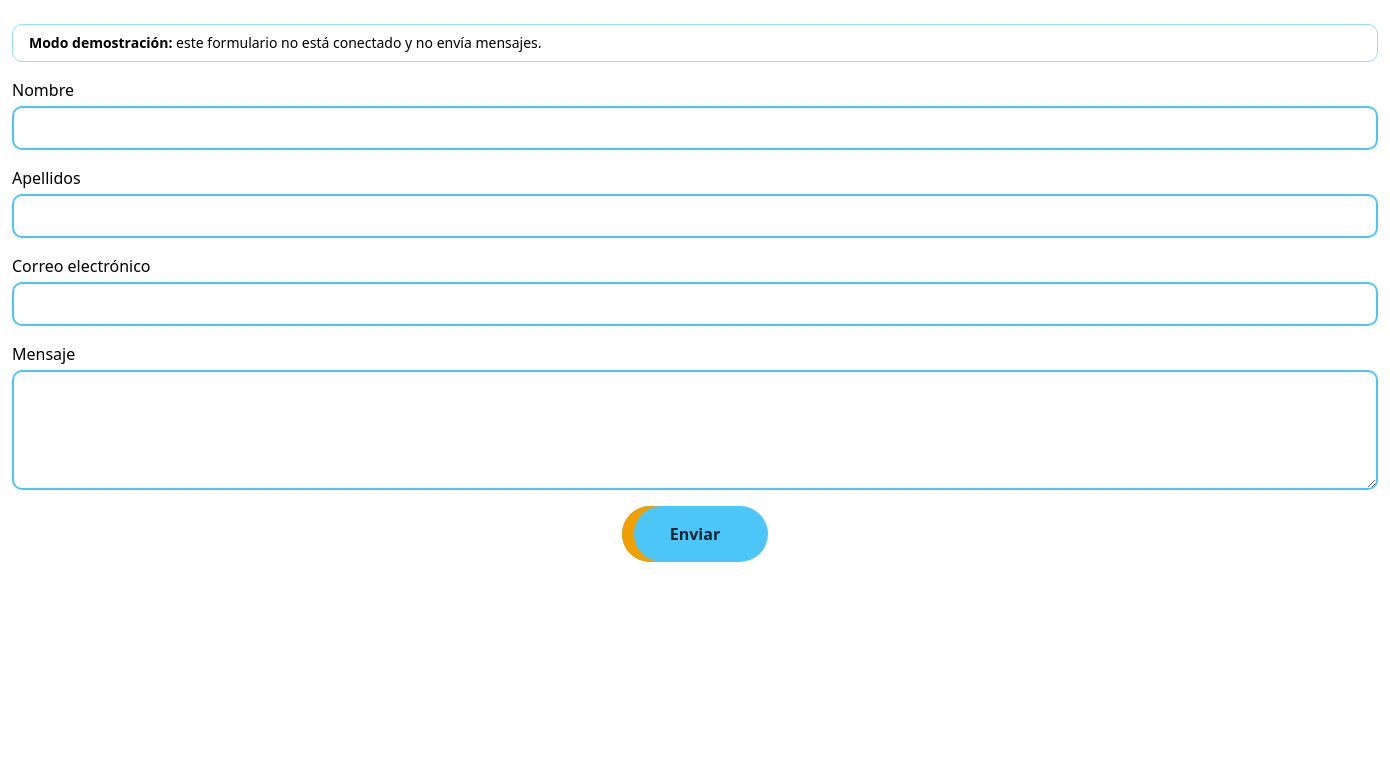
Test case: ContactForm without a Formspree ID (demo mode) › says it is a demo and sends nothing
Expected: the text "este formulario no está conectado" is shown, [172,33,542,52]
Type "Ana" into the field labelled "Nombre" at (695, 128), box [12,106,1378,150]
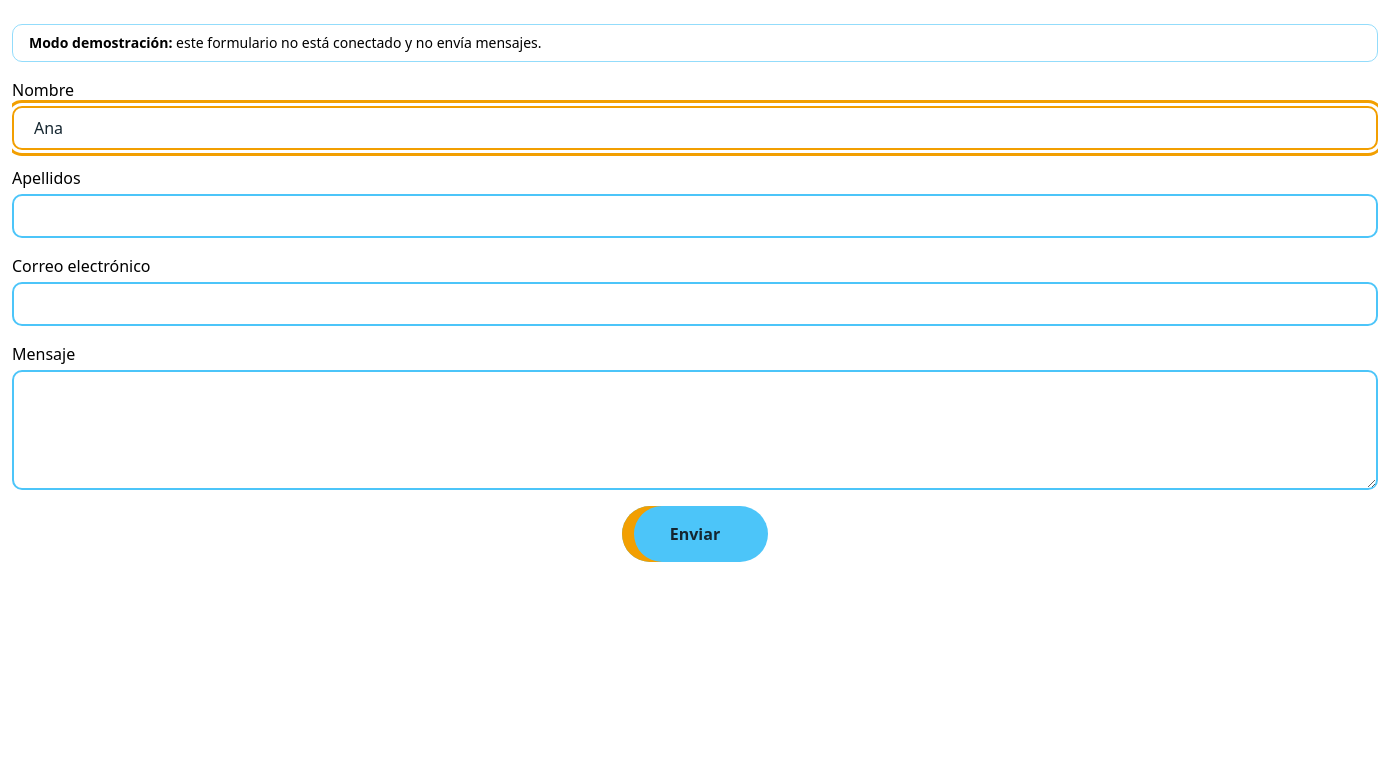
Type "Mora Solís" into the field labelled "Apellidos" at (695, 216), box [12,194,1378,238]
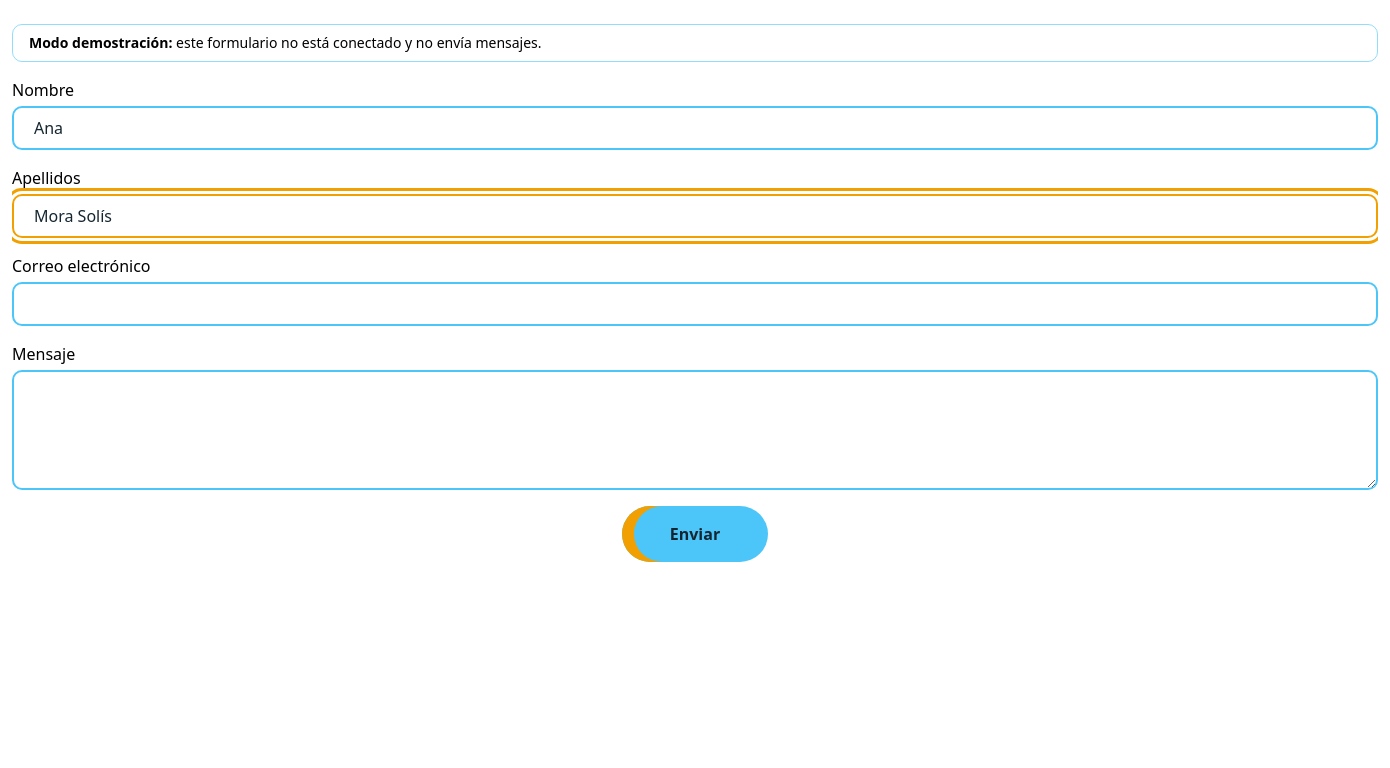
Type "ana@example.com" into the field labelled "Correo electrónico" at (695, 304), box [12,282,1378,326]
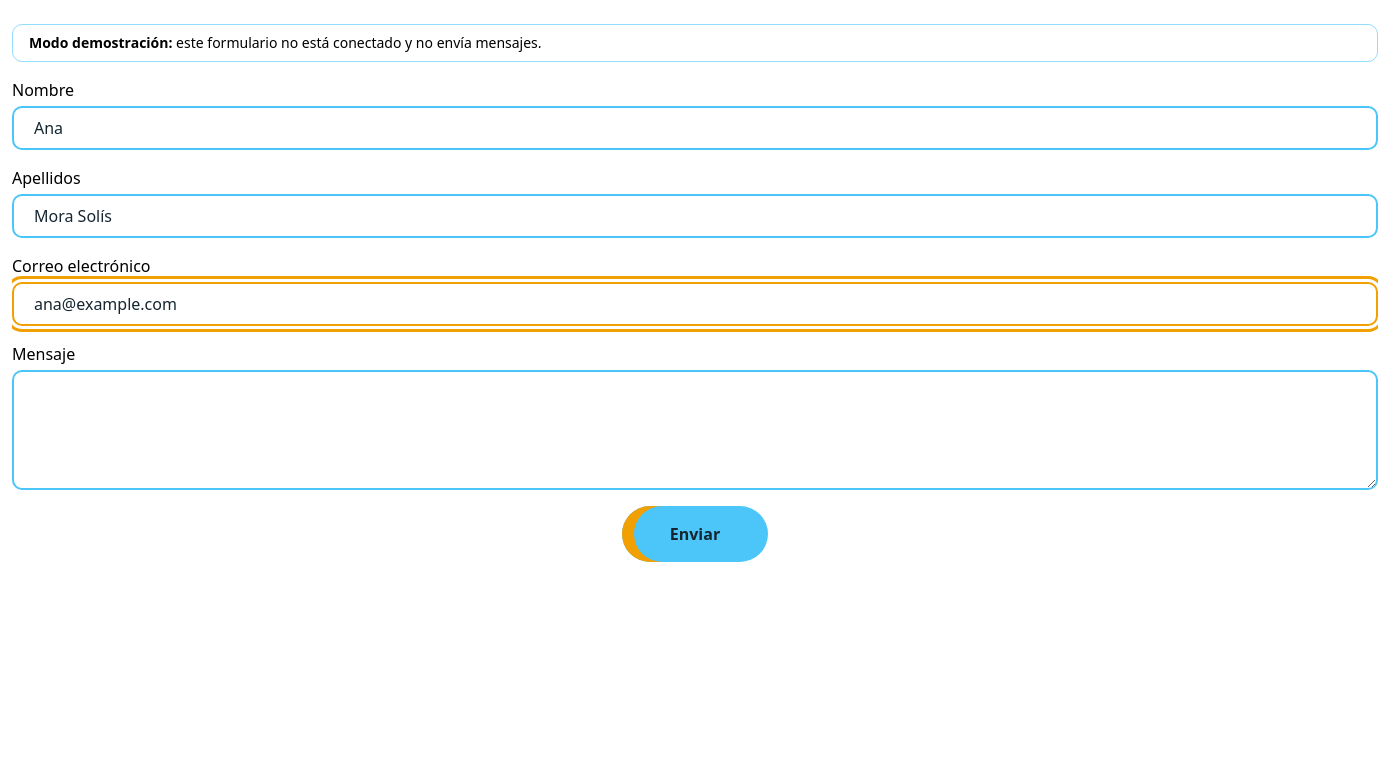
Type "Quiero una demo." into the text box labelled "Mensaje" at (695, 430), box [12,370,1378,490]
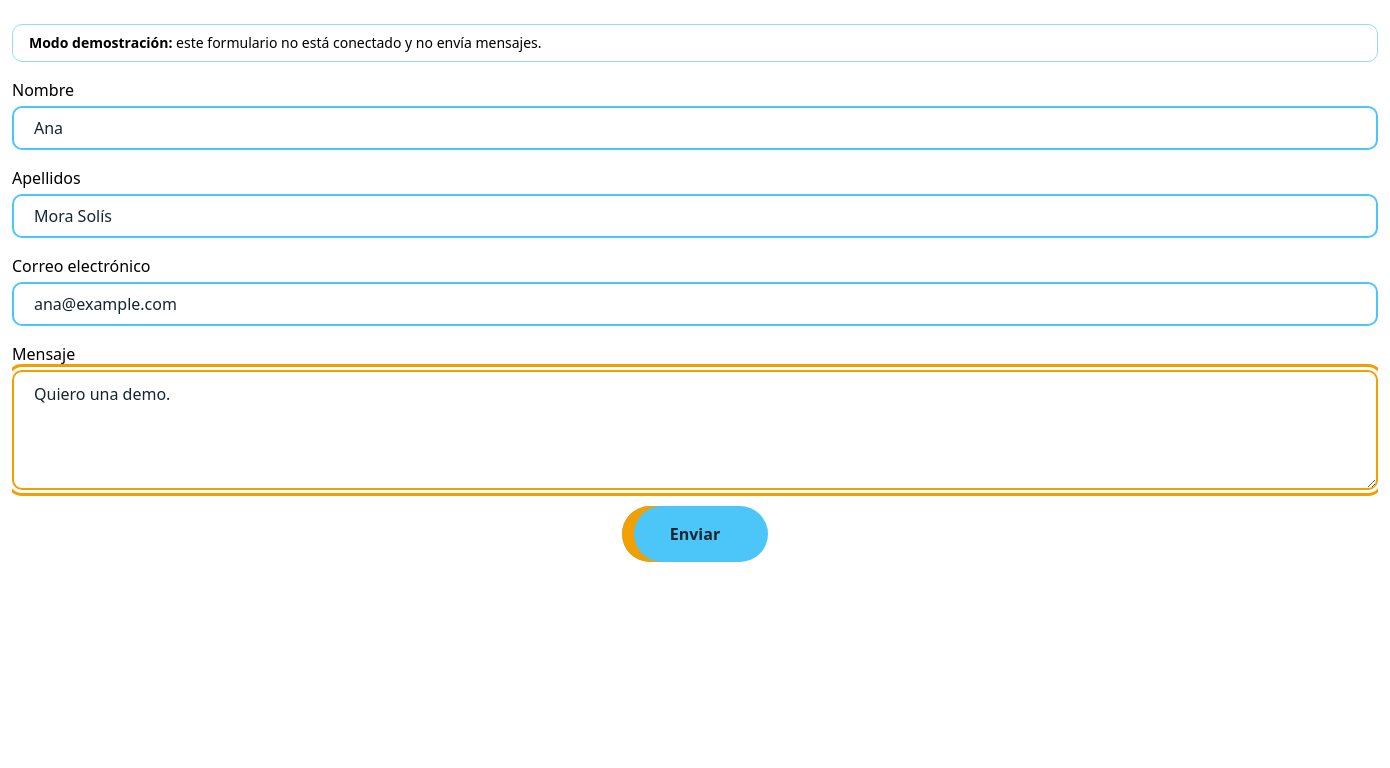
Click the button "Enviar" at (695, 534), box [622,506,768,562]
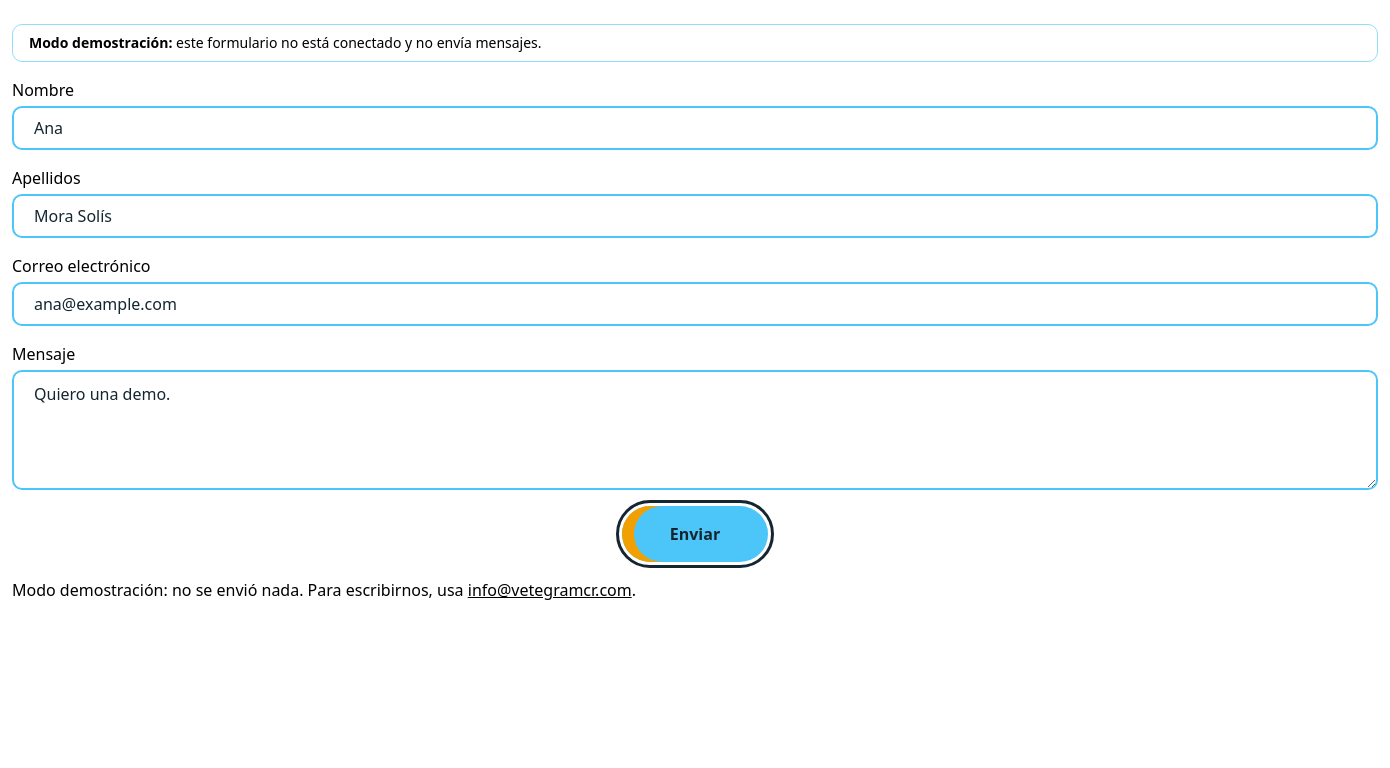
Expected: the message shows "Modo demostración: no se envió nada.", [12,579,464,601]
